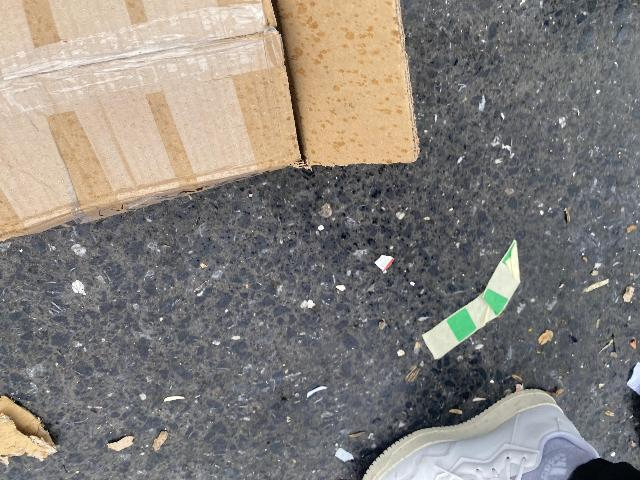Kagit: (0, 0, 422, 243), (0, 394, 60, 465)
Plastik: (422, 239, 521, 363)
